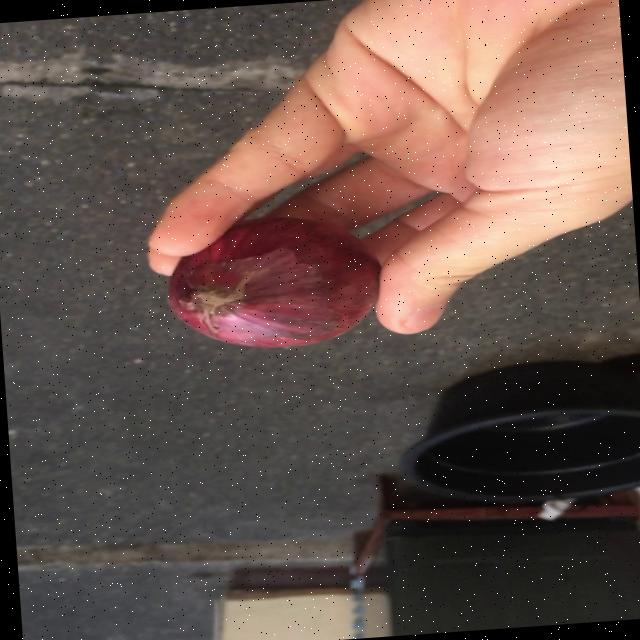Onion: (166, 216, 379, 346)
